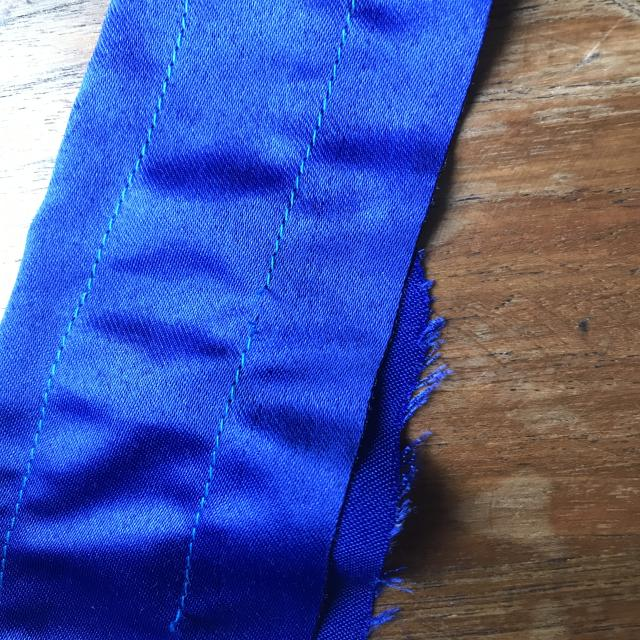broken: (241, 254, 295, 359)
